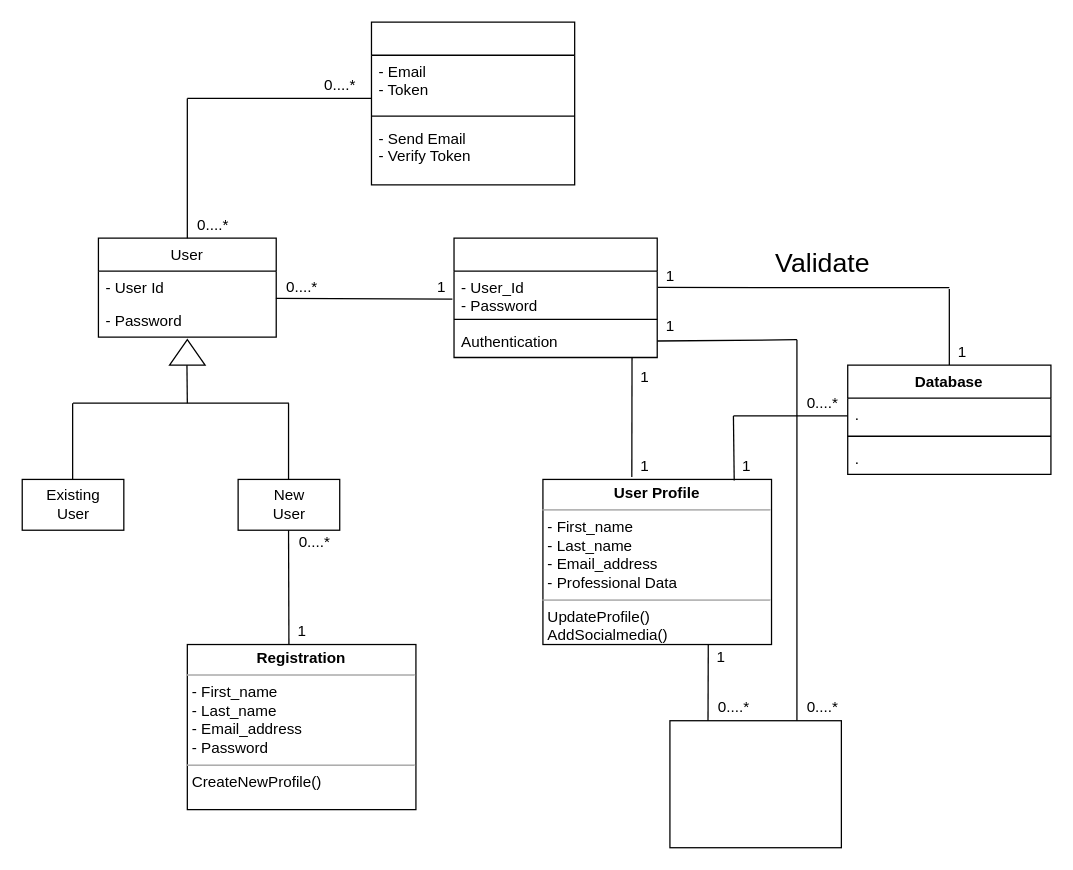
This 1073x870 diagram has some shape labels left out. The shapes that lost their labels are listed below. From the top down, each one's box as (x1, y1, x2, y2) in pixels, then its label:
(370, 21, 575, 185): Forget Password
(453, 237, 657, 358): Login
(669, 719, 841, 848): Share Profile - Share my Card - Receive Card
